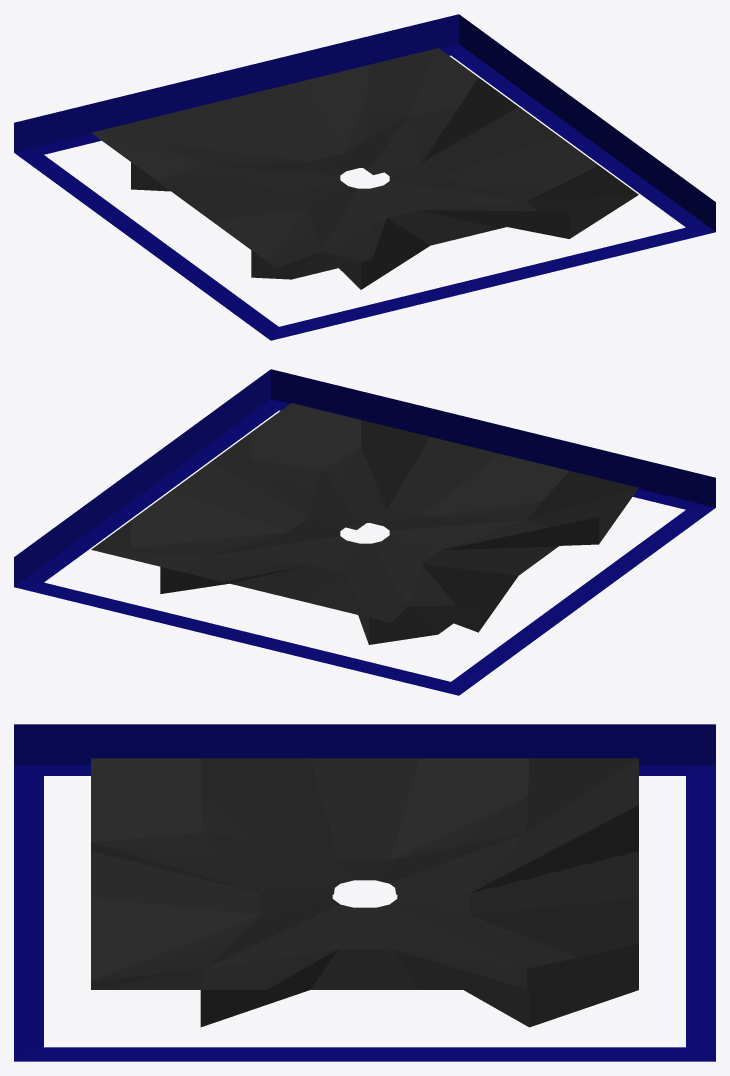
The model's file is ceiling.fbx.
3 renders of one model, top to bottom at view 1: azimuth 30°, elevation 25°; view 2: azimuth 150°, elevation 25°; view 3: azimuth 270°, elevation 25°, orthographic. The views are drawn at different scales.
Visible parts, largest first — view 1: celing; view 2: celing; view 3: celing.
Part boxes in pixels (x1,y1,x2,y2): celing: (14, 14, 715, 340); celing: (14, 369, 715, 695); celing: (14, 724, 715, 1061).
Bounding box in the file's own units: 19.21 × 1.24 × 19.21.
